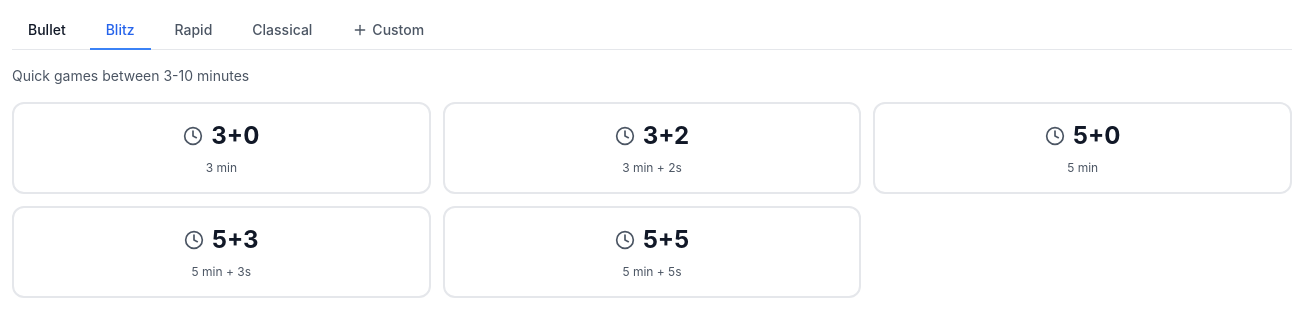
Scenario: TimeControlSelector › Custom Time Controls (Requirement 5.5) › should show error for invalid base time (too high)
Click the button with test id "category-tab-custom". click: (388, 31)
box: [336, 12, 440, 50]
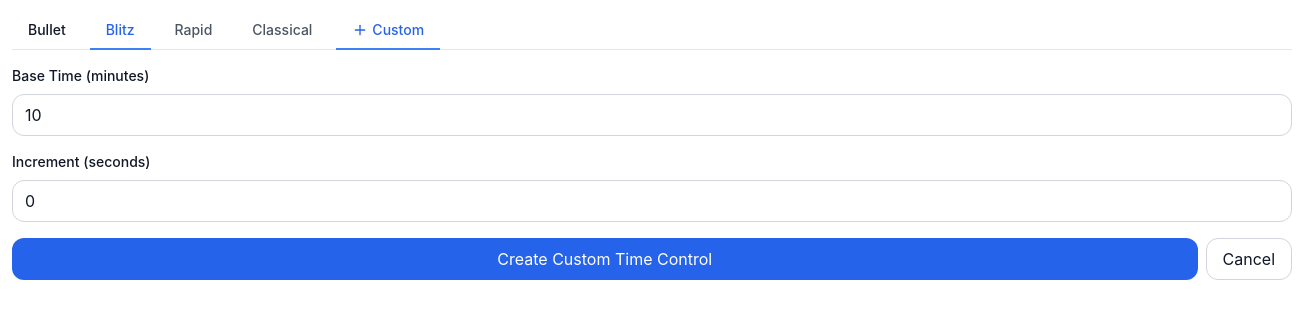
Replace the text in the number field with test id "custom-base-time-input" with "200". click: (652, 115)
box: [12, 94, 1292, 136]
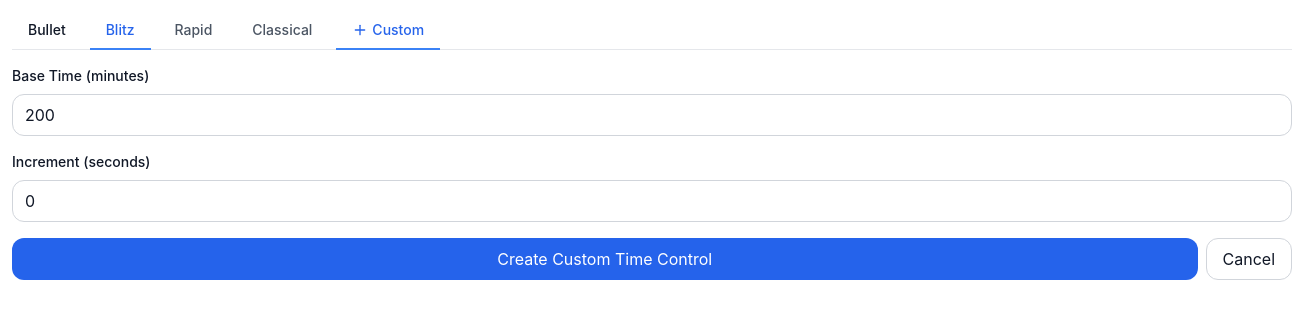
Click the button with test id "custom-submit-button". click: (605, 259)
box: [12, 238, 1198, 280]
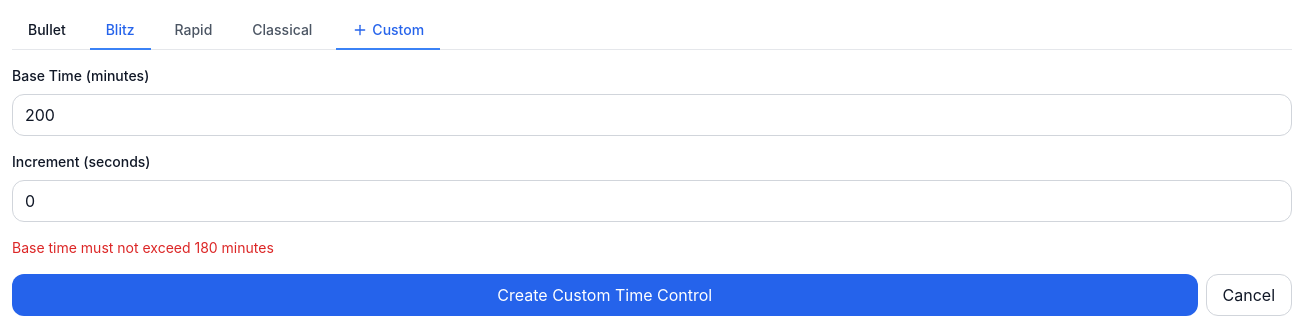
Expected: the text "Base time must not exceed 180 minutes" is shown, [12, 239, 274, 256]
